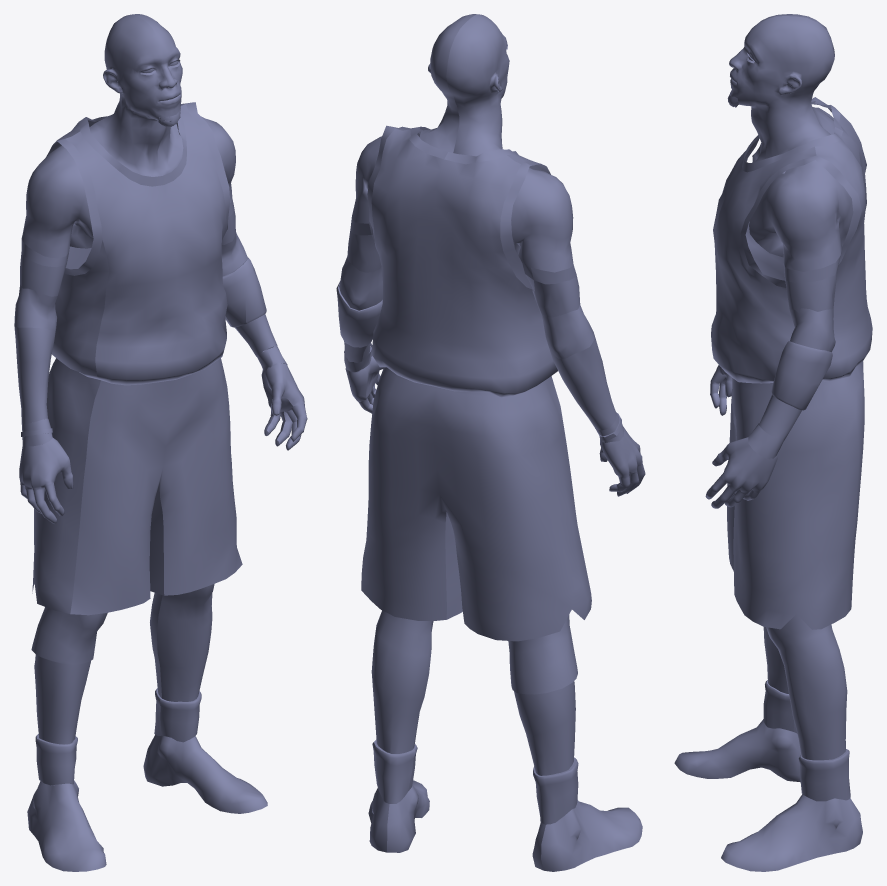
Rendered from 2KNBAPlayers.FBX.
3 views of the same model, side by side, from view 1: azimuth 30°, elevation 25°; view 2: azimuth 150°, elevation 25°; view 3: azimuth 270°, elevation 25° (orthographic). The views are drawn at different scales.
Parts seen in each view (by area): view 1: DrawCall_3041, DrawCall_3042, DrawCall_3337, DrawCall_3043, DrawCall_3046, DrawCall_3049, DrawCall_3057, DrawCall_3047, RightHand, DrawCall_3045, DrawCall_3060, DrawCall_3061 (+7 smaller); view 2: DrawCall_3041, DrawCall_3042, DrawCall_3046, DrawCall_3337, DrawCall_3043, DrawCall_3049, DrawCall_3057, DrawCall_3047, DrawCall_3059, DrawCall_3061, DrawCall_3053, RightHand (+7 smaller); view 3: DrawCall_3041, DrawCall_3042, DrawCall_3043, DrawCall_3337, DrawCall_3046, DrawCall_3052, DrawCall_3045, DrawCall_3060, DrawCall_3061, DrawCall_3054, DrawCall_3051, DrawCall_3059 (+4 smaller).
Part boxes in pixels (x1,y1,x2,y2): DrawCall_3041: [32, 358, 242, 615]; DrawCall_3042: [46, 102, 230, 385]; DrawCall_3337: [89, 14, 183, 176]; DrawCall_3043: [27, 735, 267, 871]; DrawCall_3046: [34, 584, 214, 744]; DrawCall_3049: [21, 145, 93, 258]; DrawCall_3057: [31, 607, 107, 664]; DrawCall_3047: [14, 326, 56, 424]; RightHand: [19, 438, 73, 523]; DrawCall_3045: [261, 362, 307, 450]; DrawCall_3060: [222, 257, 266, 327]; DrawCall_3061: [154, 688, 201, 742]; DrawCall_3041: [361, 367, 591, 641]; DrawCall_3042: [367, 125, 557, 397]; DrawCall_3046: [371, 610, 575, 775]; DrawCall_3337: [419, 14, 509, 156]; DrawCall_3043: [368, 780, 642, 871]; DrawCall_3049: [511, 168, 573, 279]; DrawCall_3057: [508, 615, 577, 694]; DrawCall_3047: [549, 334, 616, 430]; DrawCall_3059: [533, 757, 578, 824]; DrawCall_3061: [372, 740, 417, 803]; DrawCall_3053: [539, 303, 594, 358]; RightHand: [599, 426, 645, 496]; DrawCall_3041: [727, 361, 864, 629]; DrawCall_3042: [711, 97, 872, 383]; DrawCall_3043: [674, 719, 862, 871]; DrawCall_3337: [729, 14, 834, 162]; DrawCall_3046: [763, 614, 847, 760]; DrawCall_3052: [749, 160, 853, 271]; DrawCall_3045: [705, 437, 777, 508]; DrawCall_3060: [771, 341, 832, 410]; DrawCall_3061: [798, 749, 850, 801]; DrawCall_3054: [789, 308, 835, 352]; DrawCall_3051: [785, 271, 837, 312]; DrawCall_3059: [763, 680, 797, 733].
Size of the model in its own units: 18.75 by 51.65 by 11.54.
